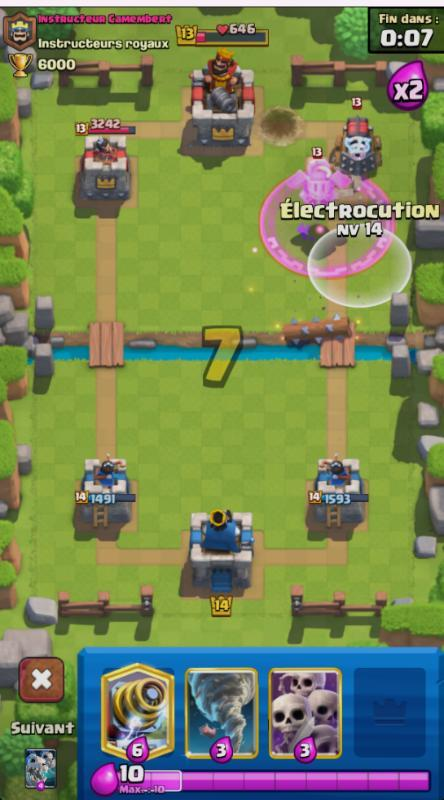enemy_inferno_dragon: (282, 148, 351, 204)
enemy_log: (253, 310, 367, 351)
enemy_sparky: (328, 114, 384, 178)
